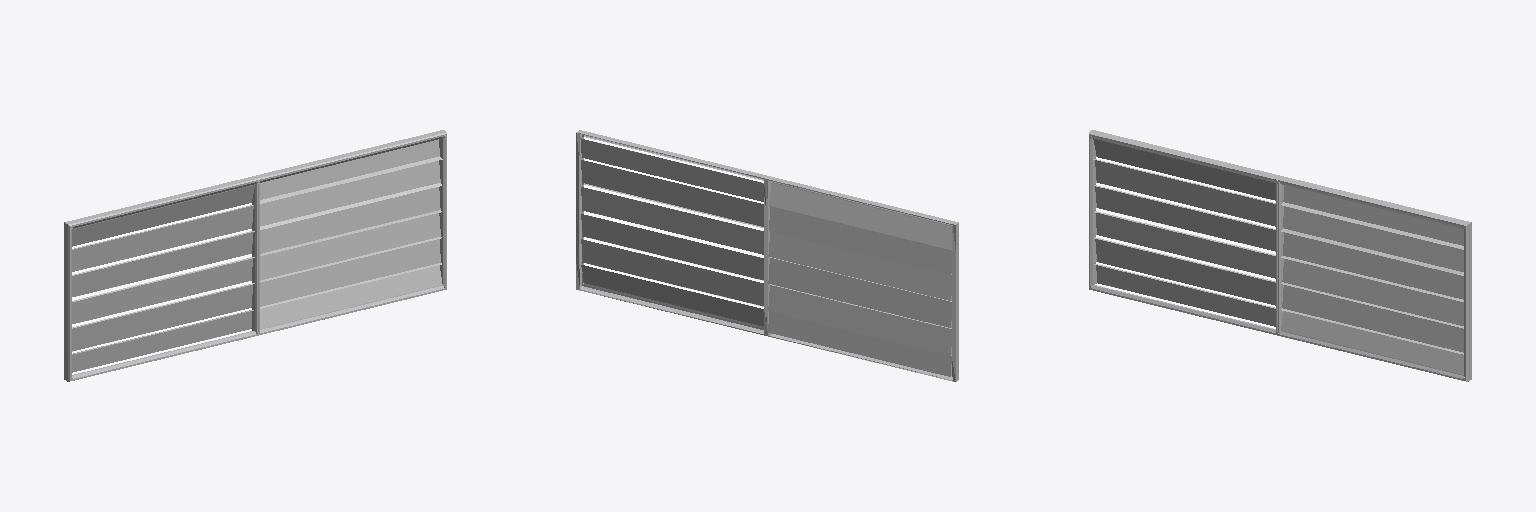
The model's file is Furniture_WallVentv2_CPG3.obj.
The picture shows the model from 3 angles: view 1: azimuth 30°, elevation 25°; view 2: azimuth 150°, elevation 25°; view 3: azimuth 330°, elevation 25°; orthographic projection.
Visible parts, largest first — view 1: Bigdualpane; view 2: Bigdualpane; view 3: Bigdualpane.
Boxes of the visible parts, x1,y1,x2,y2 form: Bigdualpane: [64, 130, 446, 381]; Bigdualpane: [576, 130, 958, 381]; Bigdualpane: [1089, 130, 1471, 381].
Bounding box in the file's own units: 39.64 × 15.71 × 0.9903.